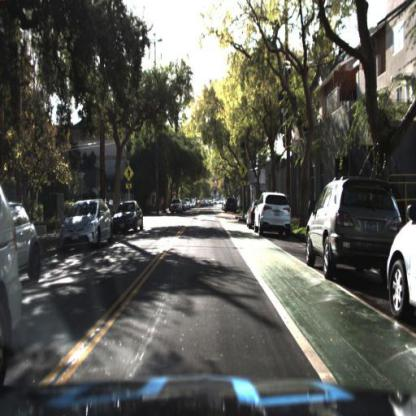car: (305, 173, 406, 281), (1, 186, 25, 384), (386, 195, 416, 328), (1, 201, 43, 282), (57, 199, 117, 255), (61, 192, 114, 254), (254, 189, 295, 240), (113, 197, 145, 237), (168, 198, 185, 218), (222, 196, 239, 216), (249, 197, 258, 229)
